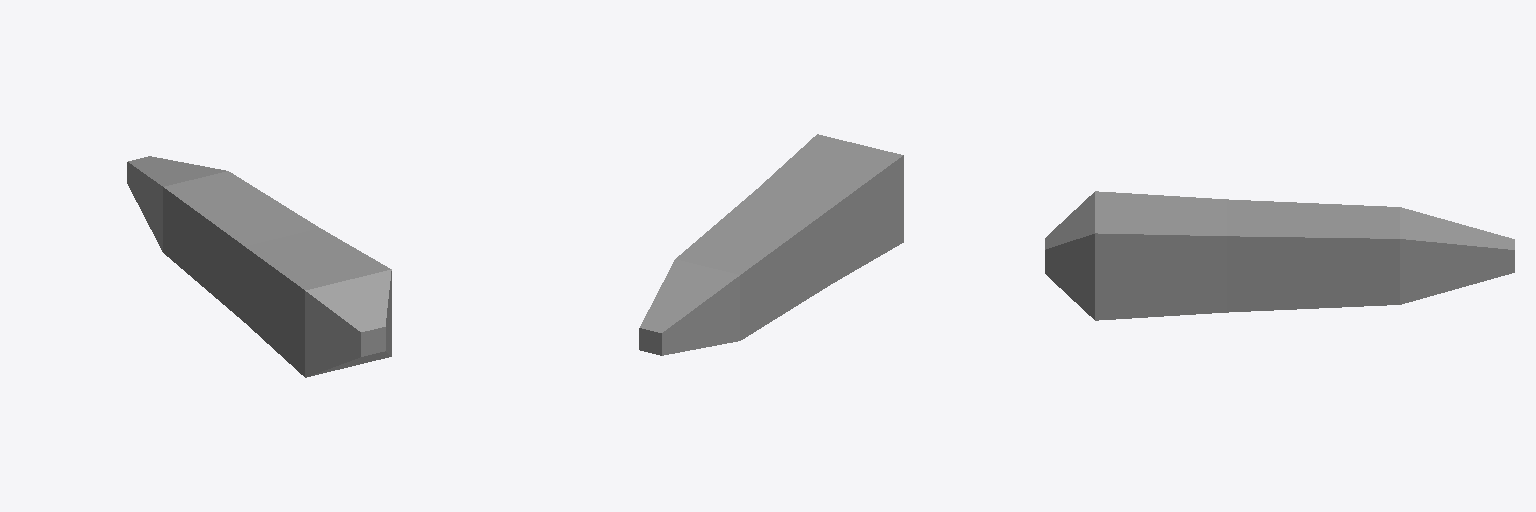
File: RampageShot.obj
3 views of the same model, side by side, from view 1: azimuth 30°, elevation 25°; view 2: azimuth 150°, elevation 25°; view 3: azimuth 270°, elevation 25° (orthographic).
Bounding box in the file's own units: 2.02 × 1.95 × 9.48.